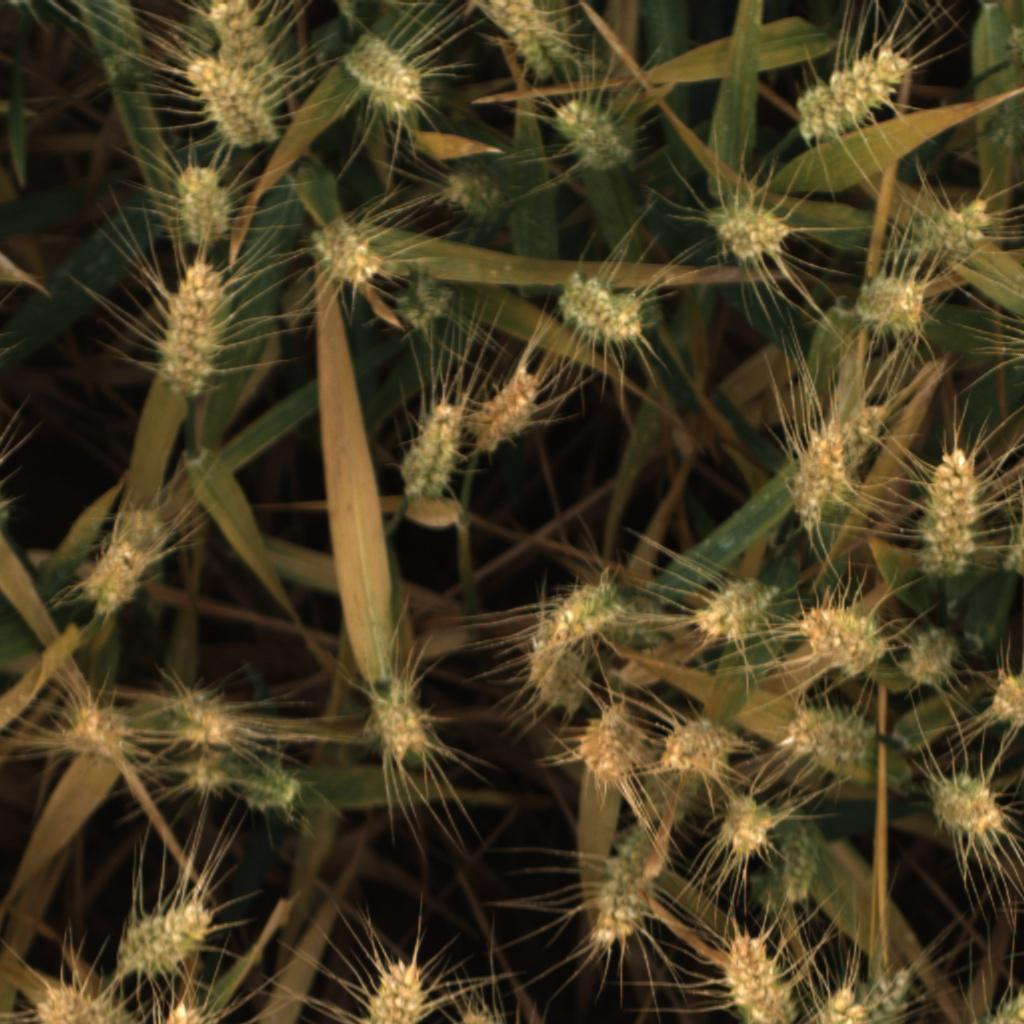0-0: (152, 264, 234, 401), (797, 45, 906, 148), (590, 825, 672, 952), (181, 55, 285, 154), (918, 443, 984, 579), (110, 897, 215, 977), (337, 29, 427, 118), (392, 397, 463, 508), (717, 927, 796, 1024), (784, 421, 851, 535), (463, 369, 544, 459), (479, 3, 568, 83), (895, 196, 990, 268), (554, 273, 643, 349), (796, 596, 883, 673), (573, 698, 649, 784), (556, 92, 632, 175), (705, 202, 797, 269), (107, 490, 187, 565), (630, 751, 705, 831), (77, 539, 153, 617), (693, 573, 776, 644), (924, 773, 1007, 843), (166, 166, 236, 249), (543, 575, 625, 642), (354, 958, 434, 1024), (783, 708, 874, 766), (528, 638, 595, 714), (835, 394, 892, 483), (314, 220, 382, 293), (200, 0, 274, 65), (776, 817, 830, 906), (660, 717, 735, 781), (369, 692, 434, 765), (167, 690, 241, 752), (716, 791, 776, 864), (854, 274, 924, 335), (896, 624, 964, 686), (392, 269, 456, 333), (62, 702, 124, 764), (233, 767, 305, 819), (29, 989, 133, 1024), (435, 164, 505, 216), (176, 751, 239, 803), (870, 961, 917, 1024), (807, 980, 868, 1024), (613, 598, 665, 648), (989, 669, 1024, 733), (980, 983, 1024, 1024), (999, 522, 1024, 582), (160, 1000, 206, 1024), (454, 1008, 497, 1024)
